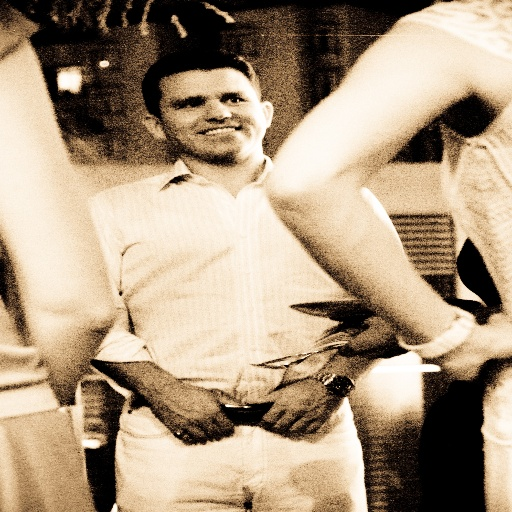hand: (253, 375, 359, 448), (145, 381, 247, 446), (435, 309, 511, 381), (335, 305, 419, 360)
